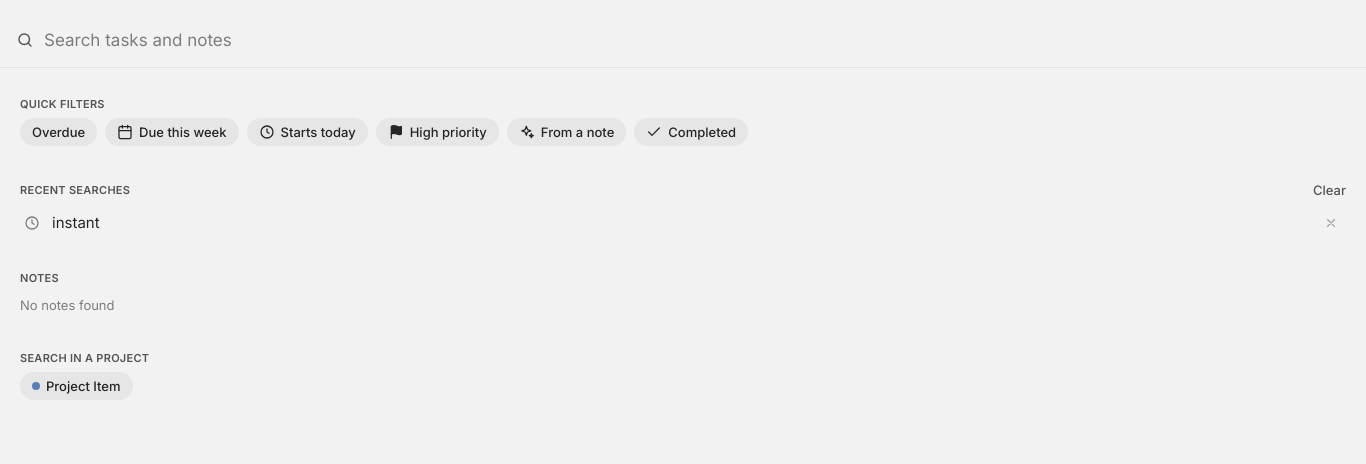
Test case: SearchPanel & SearchPopup › tab chips filter sections and show counts with no numbers while pending
Type "Item" into the dropdown at (697, 40), box [44,12,1350,67]
Wait 450 ms
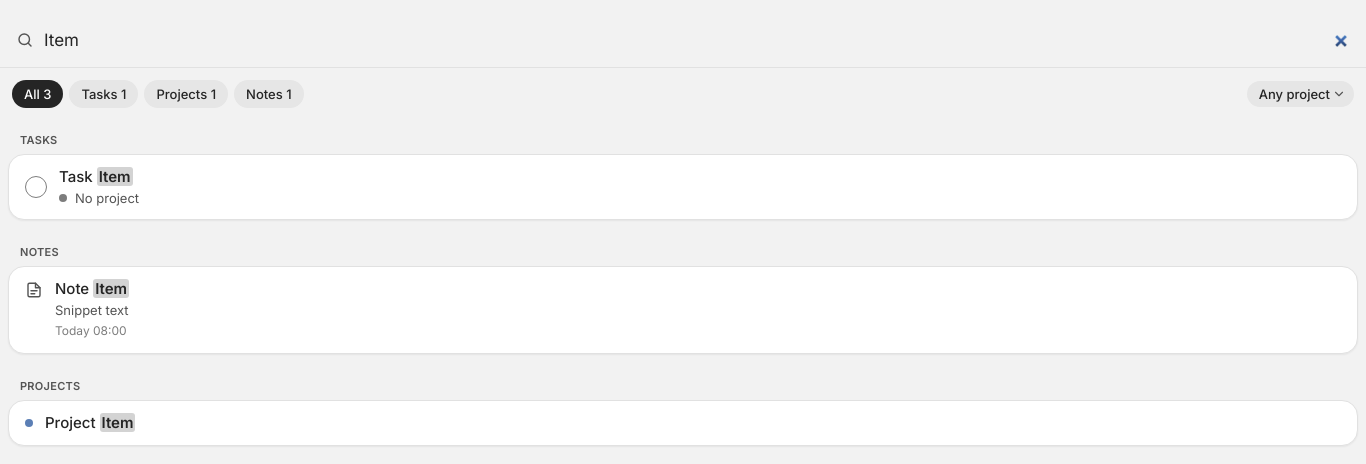
Expected: the tab "All 3" is shown, [12,80,63,108]
Expected: the tab "Tasks 1" is shown
Expected: the tab "Projects 1" is shown, [144,80,228,108]
Switch to Tasks tab
Click the tab "Tasks 1" at (104, 94), box [69,80,138,108]
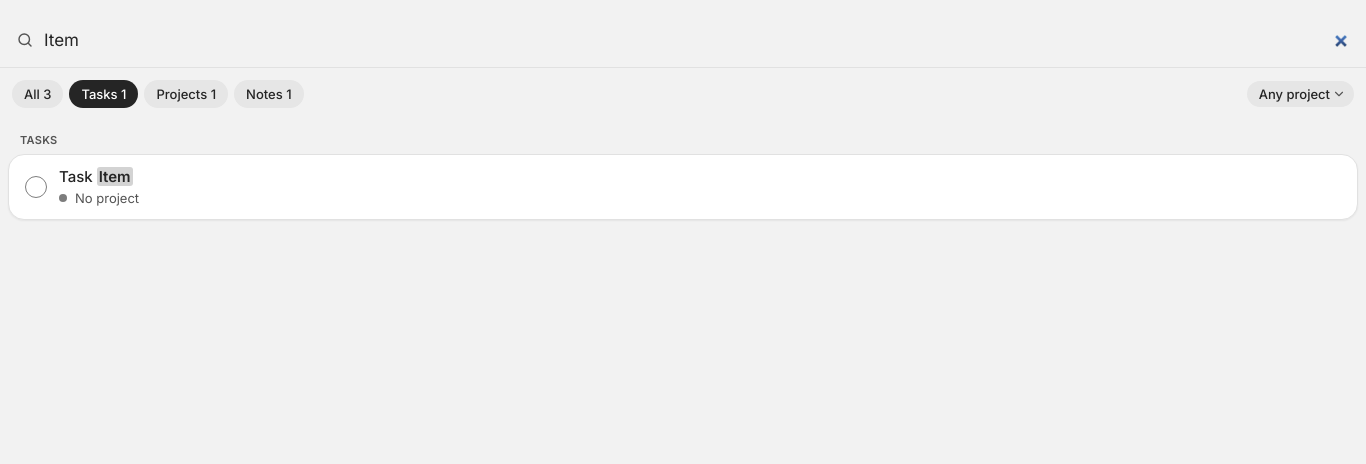
Expected: the text "Tasks" is shown, [20,133,58,147]
Switch to Projects tab
Click the tab "Projects 1" at (186, 94), box [144,80,228,108]
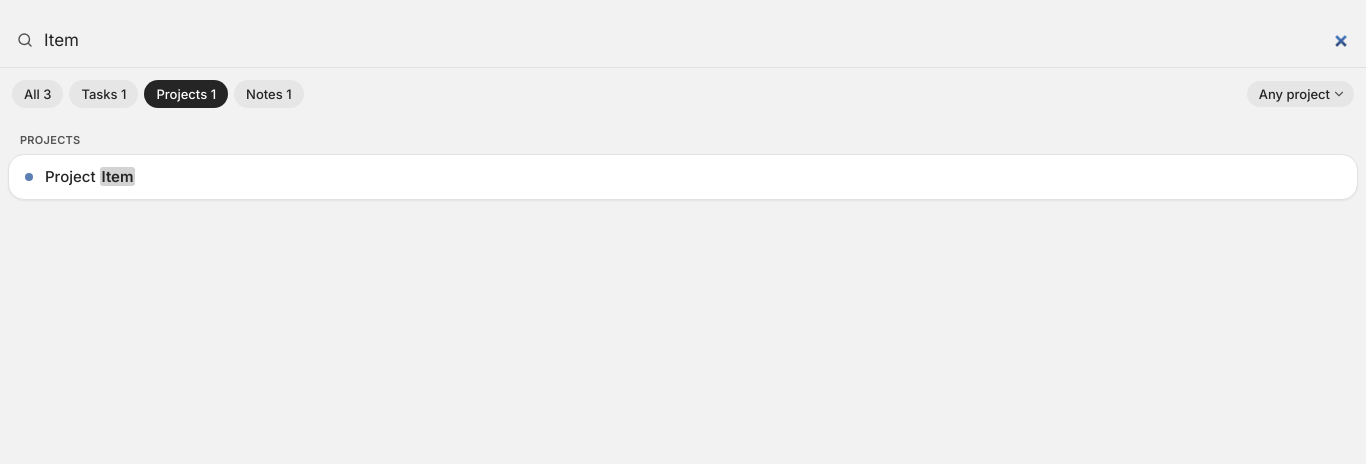
Expected: the text "Projects" is shown, [20,133,80,147]
Switch to Notes tab
Click the tab "Notes 1" at (269, 94), box [234,80,304,108]
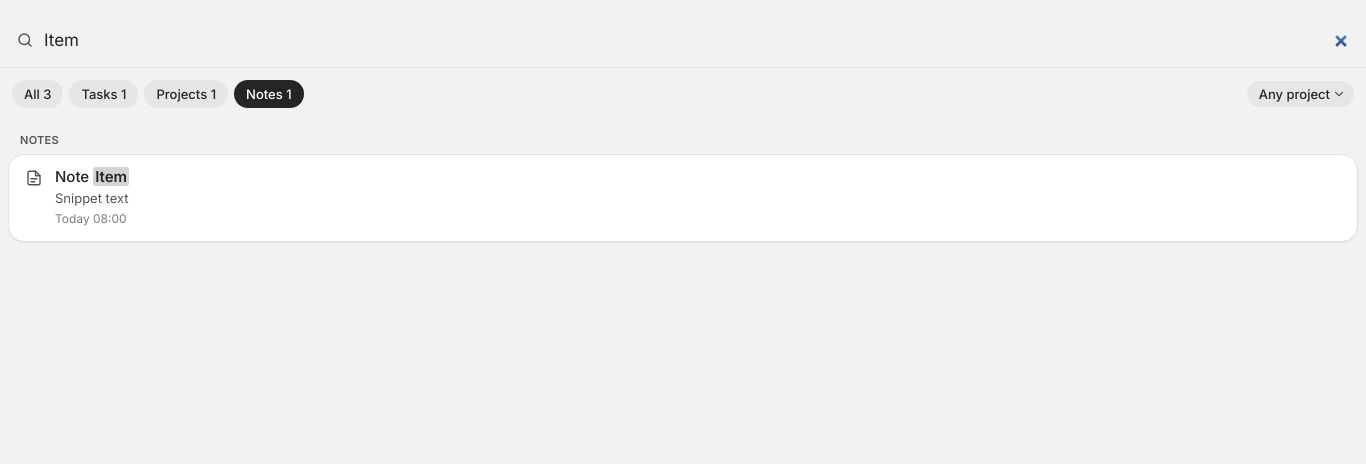
Expected: the text "Notes" is shown, [20,133,59,147]
